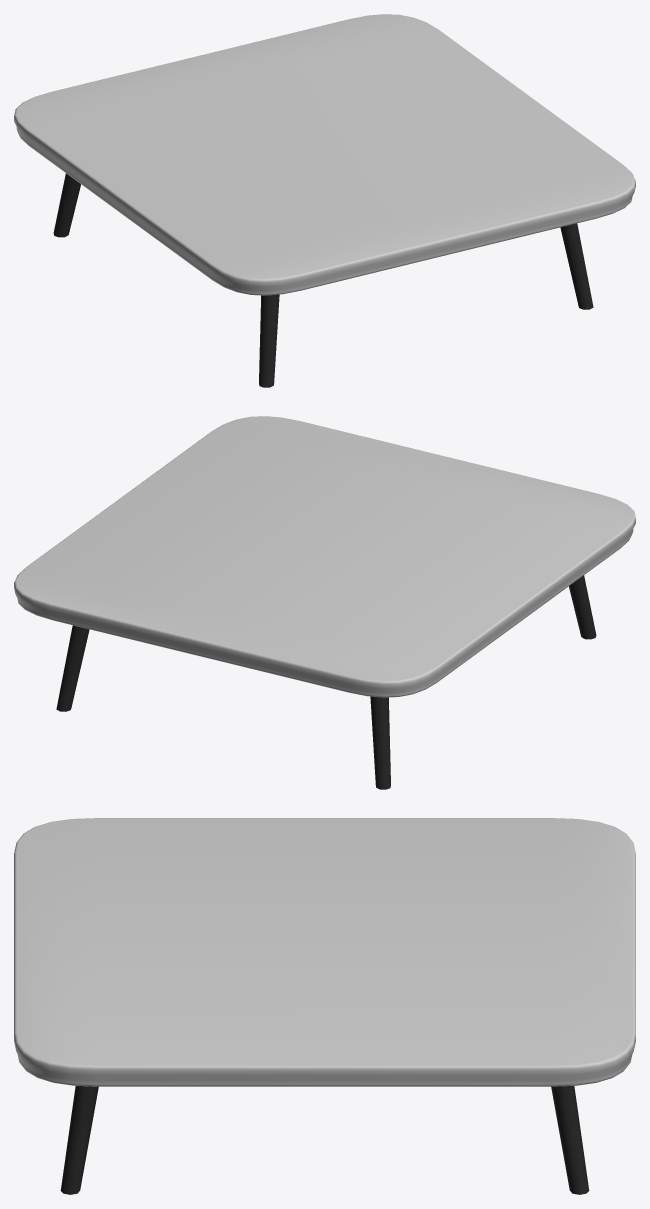
File: SM_咨询室_桌子01.fbx
The picture shows the model from 3 angles, top to bottom: view 1: azimuth 30°, elevation 25°; view 2: azimuth 150°, elevation 25°; view 3: azimuth 270°, elevation 25°; orthographic projection. The views are drawn at different scales.
Parts seen in each view (by area): view 1: SM_咨询室_桌子01; view 2: SM_咨询室_桌子01; view 3: SM_咨询室_桌子01.
Part boxes in pixels (x1,y1,x2,y2): SM_咨询室_桌子01: (14,14,635,387); SM_咨询室_桌子01: (14,416,635,789); SM_咨询室_桌子01: (14,818,635,1194).
Bounding box in the file's own units: 1459 × 417 × 1536.
